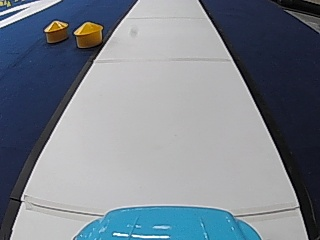granary: (72, 19, 104, 48), (42, 19, 68, 43)
